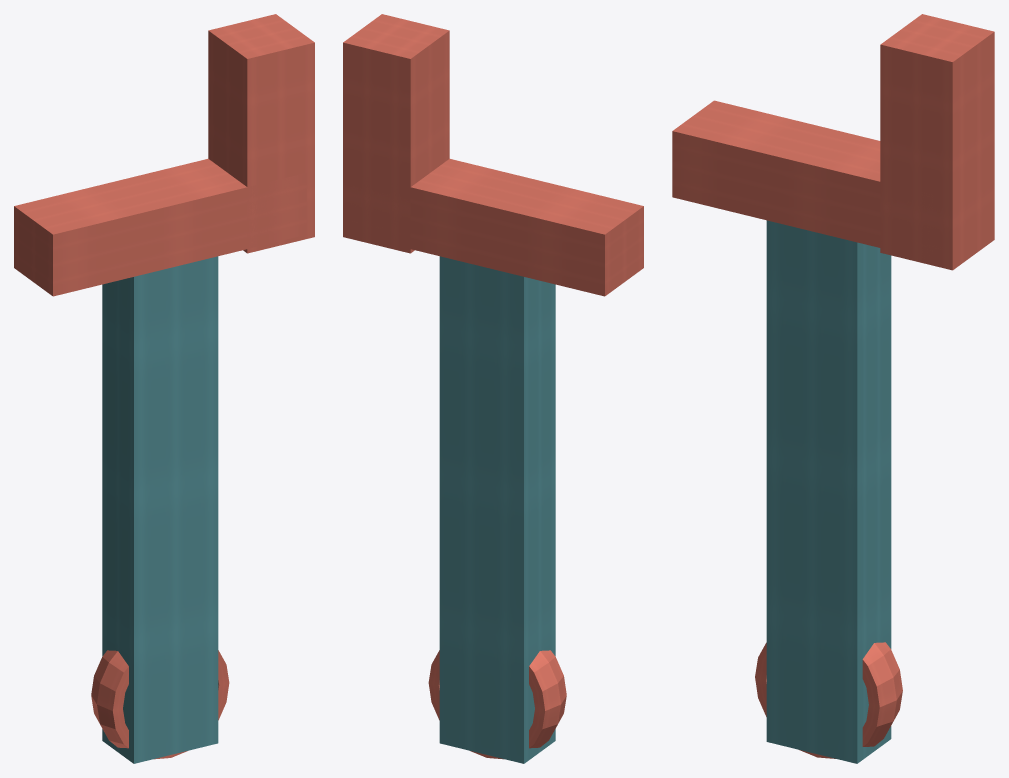
The model's file is atlas100-s072-a05.lod1.glb.
3 views of the same model, side by side, from view 1: azimuth 30°, elevation 25°; view 2: azimuth 150°, elevation 25°; view 3: azimuth 330°, elevation 25° (orthographic). The views are drawn at different scales.
Parts seen in each view (by area): view 1: atlas100-s072-a05:part-000, atlas100-s072-a05:part-003, atlas100-s072-a05:part-002, atlas100-s072-a05:part-004; view 2: atlas100-s072-a05:part-000, atlas100-s072-a05:part-003, atlas100-s072-a05:part-002, atlas100-s072-a05:part-004; view 3: atlas100-s072-a05:part-000, atlas100-s072-a05:part-002, atlas100-s072-a05:part-003, atlas100-s072-a05:part-004.
Boxes of the visible parts, left/top/right/bottom form: atlas100-s072-a05:part-000: left=102, top=256, right=218, bottom=763; atlas100-s072-a05:part-003: left=14, top=158, right=306, bottom=296; atlas100-s072-a05:part-002: left=208, top=14, right=314, bottom=253; atlas100-s072-a05:part-004: left=91, top=650, right=229, bottom=759; atlas100-s072-a05:part-000: left=439, top=256, right=555, bottom=763; atlas100-s072-a05:part-003: left=351, top=158, right=643, bottom=296; atlas100-s072-a05:part-002: left=343, top=14, right=449, bottom=253; atlas100-s072-a05:part-004: left=428, top=650, right=566, bottom=759; atlas100-s072-a05:part-000: left=766, top=220, right=891, bottom=763; atlas100-s072-a05:part-002: left=880, top=14, right=994, bottom=270; atlas100-s072-a05:part-003: left=672, top=100, right=943, bottom=260; atlas100-s072-a05:part-004: left=755, top=642, right=902, bottom=758.
Size of the model in its own units: 0.3385 by 0.8572 by 0.0874.
2 materials, 2 textured.
